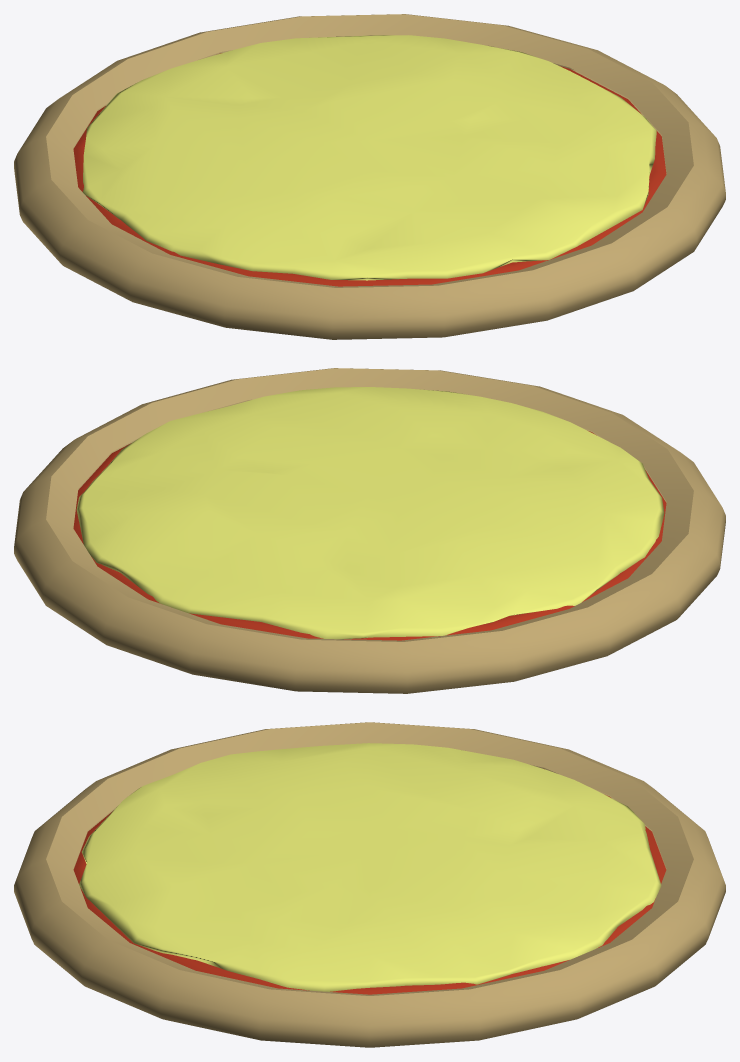
The model's file is crust2.glb.
3 renders of one model, top to bottom at view 1: azimuth 30°, elevation 25°; view 2: azimuth 150°, elevation 25°; view 3: azimuth 270°, elevation 25°, orthographic.
Visible parts, largest first — view 1: pCylinder13, pCylinder1; view 2: pCylinder13, pCylinder1; view 3: pCylinder13, pCylinder1.
Boxes of the visible parts, <box> form: pCylinder13: <box>82,35,656,280</box>; pCylinder1: <box>14,14,725,339</box>; pCylinder13: <box>76,387,664,639</box>; pCylinder1: <box>14,368,725,693</box>; pCylinder13: <box>79,743,661,991</box>; pCylinder1: <box>14,722,725,1047</box>.
Bounding box in the file's own units: 0.1 × 0.0085 × 0.1.
